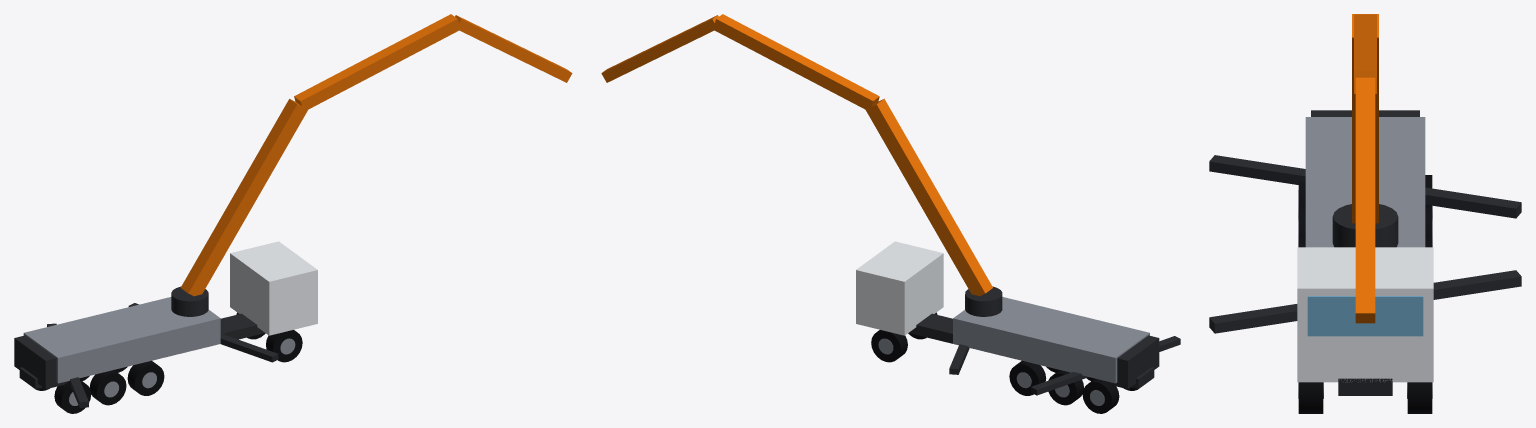
The model's file is concrete-pump.glb.
3 renders of one model, left to right at view 1: azimuth 30°, elevation 25°; view 2: azimuth 150°, elevation 25°; view 3: azimuth 270°, elevation 25°, orthographic. The views are drawn at different scales.
Bounding box in the file's own units: 20.01 × 10.09 × 5.74.
